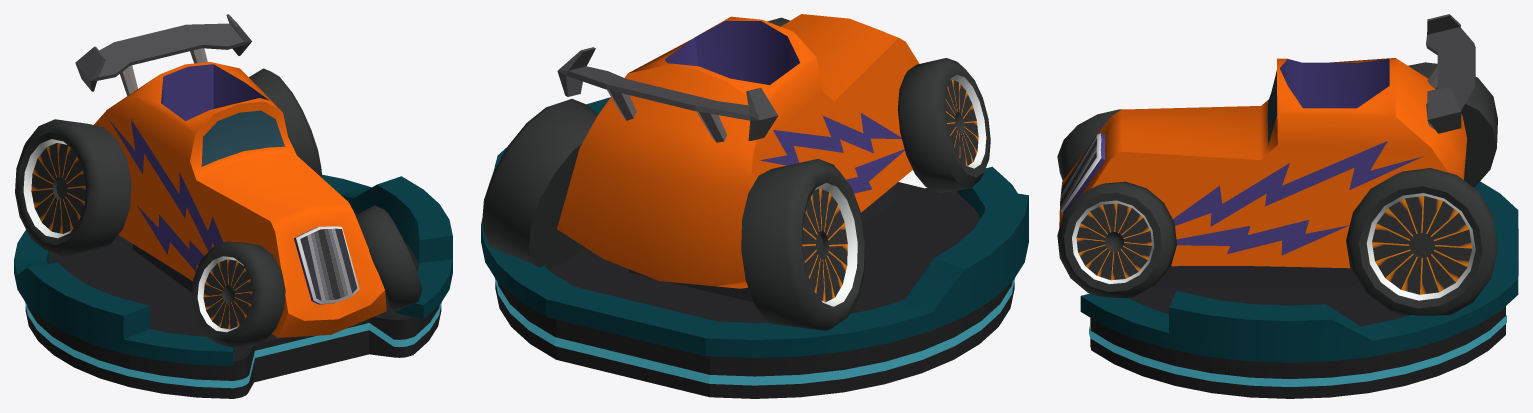
Rendered from hotwheels.gltf.
3 renders of one model, left to right at view 1: azimuth 30°, elevation 25°; view 2: azimuth 150°, elevation 25°; view 3: azimuth 270°, elevation 25°, orthographic. The views are drawn at different scales.
Visible parts, largest first — view 1: hotwheels.body, speedster.base.001, hotwheels.wheels.rear, hotwheels.wheels.front, hotwheels.spoiler, hotwheels.neons.005, hotwheels.decals; view 2: speedster.base.001, hotwheels.body, hotwheels.wheels.rear, hotwheels.wheels.front, hotwheels.spoiler, hotwheels.neons.005, hotwheels.decals; view 3: hotwheels.body, speedster.base.001, hotwheels.wheels.rear, hotwheels.wheels.front, hotwheels.decals, hotwheels.spoiler, hotwheels.neons.005.
Boxes of the visible parts, x1=… form: hotwheels.body: x1=94, y1=62, x2=386, y2=337; speedster.base.001: x1=14, y1=174, x2=452, y2=398; hotwheels.wheels.rear: x1=15, y1=68, x2=321, y2=257; hotwheels.wheels.front: x1=191, y1=205, x2=422, y2=347; hotwheels.spoiler: x1=75, y1=14, x2=251, y2=95; hotwheels.neons.005: x1=25, y1=302, x2=441, y2=388; hotwheels.decals: x1=109, y1=119, x2=223, y2=271; speedster.base.001: x1=481, y1=97, x2=1028, y2=398; hotwheels.body: x1=557, y1=14, x2=919, y2=302; hotwheels.wheels.rear: x1=482, y1=99, x2=865, y2=330; hotwheels.wheels.front: x1=767, y1=17, x2=990, y2=193; hotwheels.spoiler: x1=557, y1=47, x2=778, y2=142; hotwheels.neons.005: x1=495, y1=278, x2=1014, y2=385; hotwheels.decals: x1=759, y1=113, x2=904, y2=193; hotwheels.body: x1=1059, y1=58, x2=1467, y2=287; speedster.base.001: x1=1080, y1=181, x2=1518, y2=398; hotwheels.wheels.rear: x1=1346, y1=62, x2=1497, y2=316; hotwheels.wheels.front: x1=1057, y1=109, x2=1176, y2=298; hotwheels.decals: x1=1173, y1=141, x2=1423, y2=255; hotwheels.spoiler: x1=1426, y1=14, x2=1475, y2=133; hotwheels.neons.005: x1=1089, y1=315, x2=1506, y2=386.
Size of what is drawn, in the model's own units: 2.11 by 1.21 by 2.01.
Materials: 2 (2 with a texture image).
